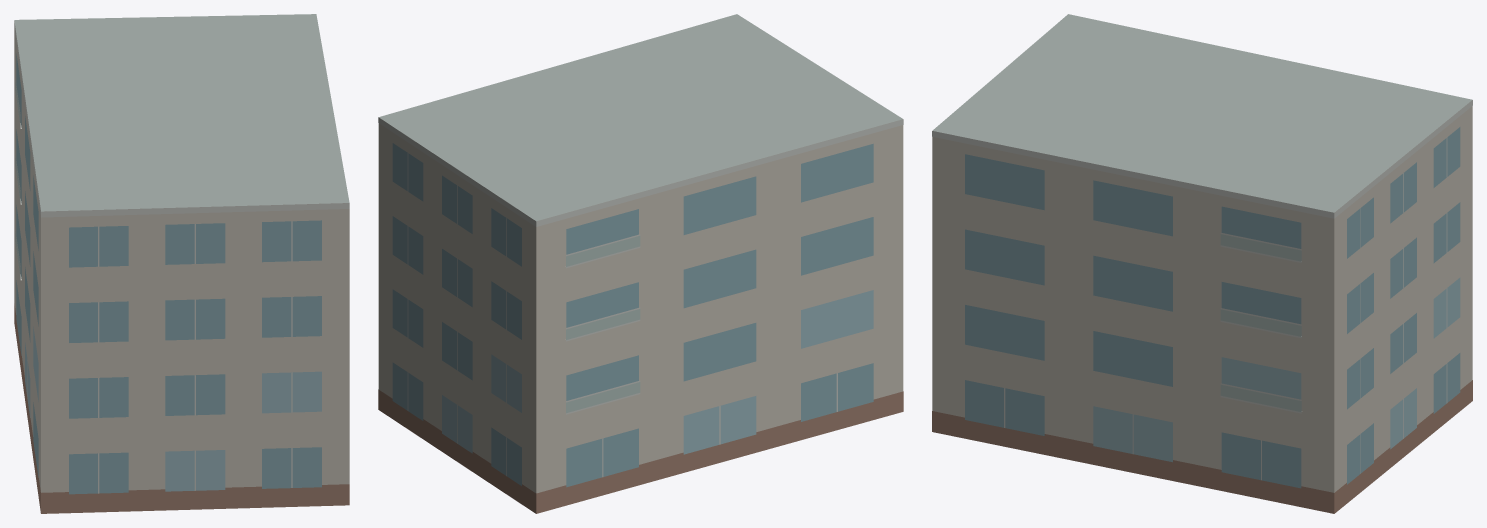
Rendered from survey-upis-33039717.glb.
3 renders of one model, left to right at view 1: azimuth 30°, elevation 25°; view 2: azimuth 150°, elevation 25°; view 3: azimuth 270°, elevation 25°, orthographic. The views are drawn at different scales.
Parts seen in each view (by area): view 1: survey-upis-33039717.tmp; view 2: survey-upis-33039717.tmp; view 3: survey-upis-33039717.tmp.
Boxes of the visible parts, x1=… form: survey-upis-33039717.tmp: x1=14, y1=14, x2=349, y2=513; survey-upis-33039717.tmp: x1=378, y1=14, x2=903, y2=513; survey-upis-33039717.tmp: x1=932, y1=14, x2=1472, y2=513.
Bounding box in the file's own units: 17.56 × 12.4 × 20.18.
